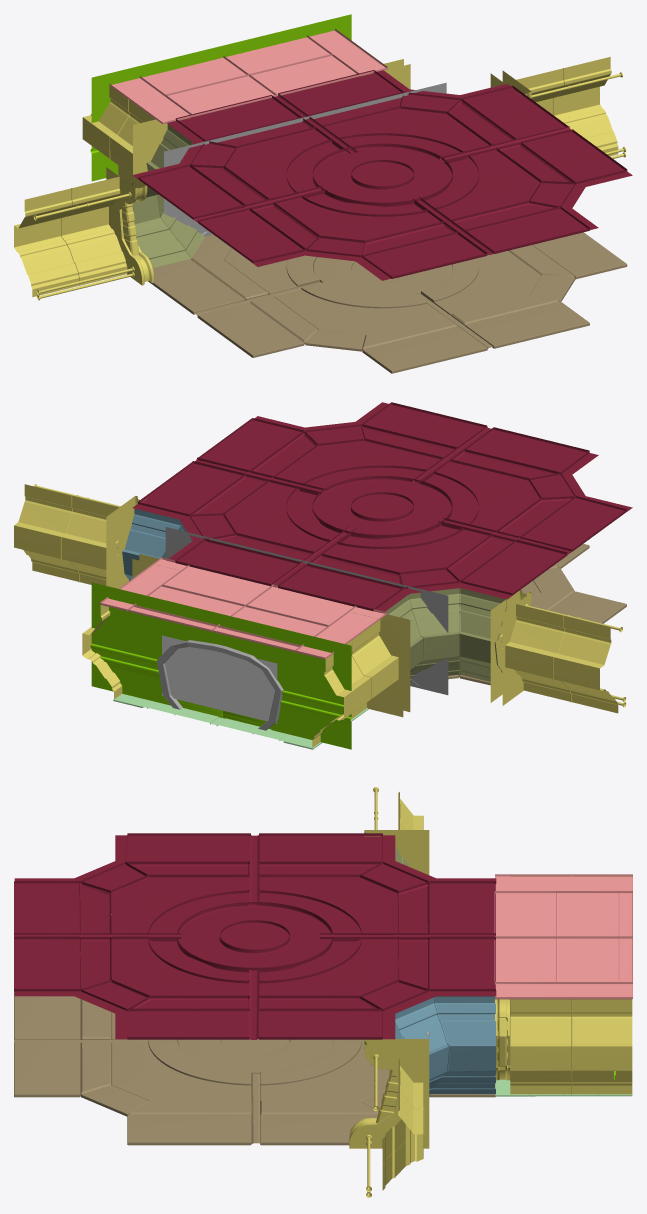
File: Escenary.fbx
3 renders of one model, top to bottom at view 1: azimuth 30°, elevation 25°; view 2: azimuth 150°, elevation 25°; view 3: azimuth 270°, elevation 25°, orthographic. The views are drawn at different scales.
Visible parts, largest first — view 1: Ceiling02, Floor02, Ceiling01, Wall02, Wall, Window, Corner02, Wall04, Column02, DoorCrystal, Column03, Corner03; view 2: Ceiling02, Window, Ceiling01, Wall02, Wall, Corner02, Wall04, Floor02, DoorCrystal, Column02, Column03, Corner01 (+3 smaller); view 3: Ceiling02, Floor02, Ceiling01, Wall03, Corner01, Column01, Wall, Column02, Corner03, Wall02, Floor01.
Part boxes in pixels (x1,y1,x2,y2): Ceiling02: (132, 70, 632, 280); Floor02: (148, 232, 627, 373); Ceiling01: (109, 28, 387, 124); Wall02: (14, 176, 134, 300); Wall: (516, 57, 626, 158); Window: (90, 14, 351, 181); Corner02: (131, 124, 204, 267); Wall04: (82, 85, 155, 174); Column02: (106, 164, 153, 285); DoorCrystal: (164, 82, 446, 236); Column03: (133, 112, 189, 174); Corner03: (356, 59, 410, 89); Ceiling02: (132, 402, 632, 613); Window: (90, 582, 351, 749); Ceiling01: (100, 557, 387, 659); Wall02: (505, 604, 626, 713); Wall: (14, 484, 120, 585); Corner02: (382, 588, 507, 681); Wall04: (312, 620, 398, 747); Floor02: (448, 544, 626, 685); DoorCrystal: (165, 527, 448, 695); Column02: (490, 589, 531, 705); Column03: (353, 612, 410, 717); Corner01: (122, 508, 192, 580); Ceiling02: (14, 833, 496, 1039); Floor02: (14, 991, 495, 1145); Ceiling01: (494, 874, 632, 999); Wall03: (510, 999, 632, 1094); Corner01: (395, 996, 495, 1094); Column01: (349, 1039, 429, 1148); Wall: (366, 1054, 424, 1197); Column02: (364, 830, 429, 874); Corner03: (495, 999, 510, 1080); Wall02: (373, 787, 423, 829); Floor01: (495, 1079, 632, 1096).
Bounding box in the file's own units: 33540 × 5987 × 27519.
